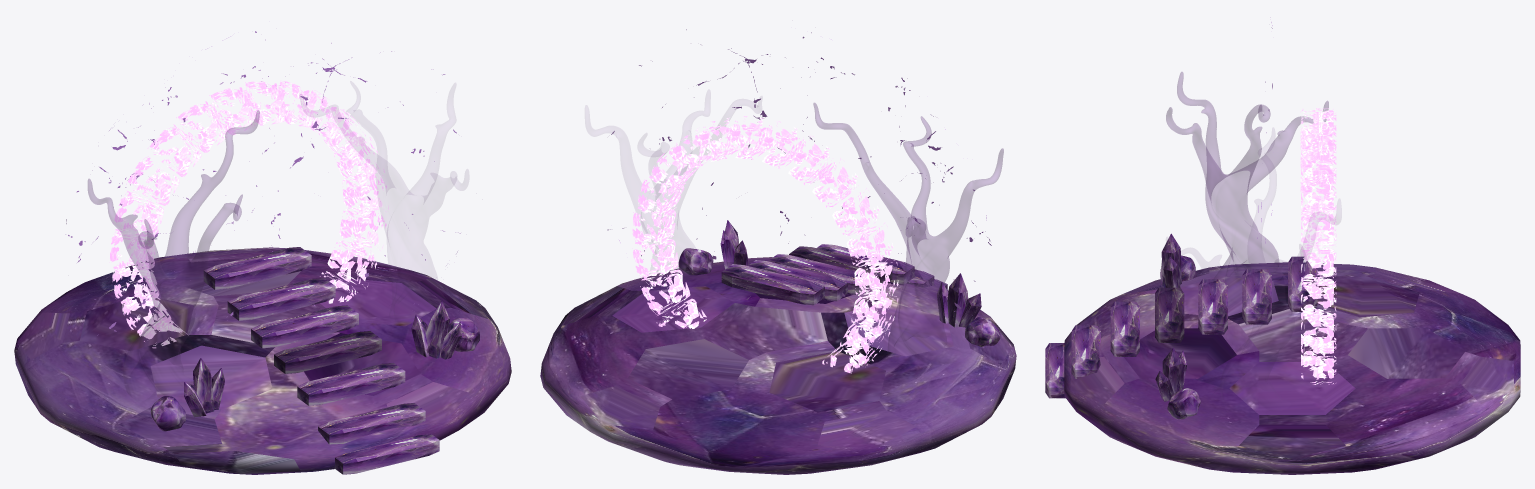
The model's file is mana_fantasy_teamed_portal.glb.
3 views of the same model, side by side, from view 1: azimuth 30°, elevation 25°; view 2: azimuth 150°, elevation 25°; view 3: azimuth 270°, elevation 25° (orthographic). The views are drawn at different scales.
Parts seen in each view (by area): view 1: Icosphere_3, Cube_0, 15261_JewelryTree-CurledBranches_v1.001_12, Cube.005_8, Cube.002_5, Cube.001_4, Cube.003_6, Cube.004_7, Cube.006_9, Cube.007_10, Cube.008_14, Cube.060_13 (+4 smaller); view 2: Icosphere_3, Cube_0, 15261_JewelryTree-CurledBranches_v1.001_12, Cube.001_4, Cube.060_13, Cube.002_5, Cube.003_6, Cube.004_7, Cube.005_8, Cube.008_14, Cylinder.001_18, Cube.073_16 (+1 smaller); view 3: Icosphere_3, 15261_JewelryTree-CurledBranches_v1.001_12, Cube_0, Cube.004_7, Cube.002_5, Cube.003_6, Cube.005_8, Cube.006_9, Cube.001_4, Cube.008_14, Cube.007_10, Cube.060_13 (+2 smaller).
Part boxes in pixels (bbox=[...]): Icosphere_3: bbox=[14, 247, 511, 474]; Cube_0: bbox=[109, 80, 388, 348]; 15261_JewelryTree-CurledBranches_v1.001_12: bbox=[88, 110, 259, 400]; Cube.005_8: bbox=[297, 363, 405, 405]; Cube.002_5: bbox=[227, 278, 335, 320]; Cube.001_4: bbox=[203, 247, 311, 289]; Cube.003_6: bbox=[251, 305, 358, 348]; Cube.004_7: bbox=[274, 331, 381, 373]; Cube.006_9: bbox=[318, 403, 425, 444]; Cube.007_10: bbox=[334, 434, 439, 474]; Cube.008_14: bbox=[411, 300, 461, 359]; Cube.060_13: bbox=[184, 358, 224, 417]; Icosphere_3: bbox=[540, 257, 1016, 474]; Cube_0: bbox=[632, 116, 898, 373]; 15261_JewelryTree-CurledBranches_v1.001_12: bbox=[813, 103, 1003, 364]; Cube.001_4: bbox=[721, 264, 824, 305]; Cube.060_13: bbox=[937, 273, 981, 327]; Cube.002_5: bbox=[748, 260, 847, 301]; Cube.003_6: bbox=[768, 254, 869, 294]; Cube.004_7: bbox=[789, 246, 892, 284]; Cube.005_8: bbox=[816, 244, 914, 284]; Cube.008_14: bbox=[720, 220, 748, 269]; Cylinder.001_18: bbox=[607, 29, 991, 315]; Cube.073_16: bbox=[965, 317, 1000, 346]; Icosphere_3: bbox=[1064, 262, 1520, 474]; 15261_JewelryTree-CurledBranches_v1.001_12: bbox=[1166, 72, 1328, 289]; Cube_0: bbox=[1300, 108, 1336, 384]; Cube.004_7: bbox=[1155, 287, 1184, 342]; Cube.002_5: bbox=[1242, 269, 1271, 324]; Cube.003_6: bbox=[1198, 279, 1227, 334]; Cube.005_8: bbox=[1110, 301, 1139, 356]; Cube.006_9: bbox=[1071, 325, 1100, 378]; Cube.001_4: bbox=[1288, 256, 1317, 311]; Cube.008_14: bbox=[1155, 348, 1186, 401]; Cube.007_10: bbox=[1045, 343, 1065, 398]; Cube.060_13: bbox=[1160, 233, 1181, 287].
Size of what is drawn, in the model's own units: 0.3512 by 0.3013 by 0.3544.
16 materials, 16 textured.
